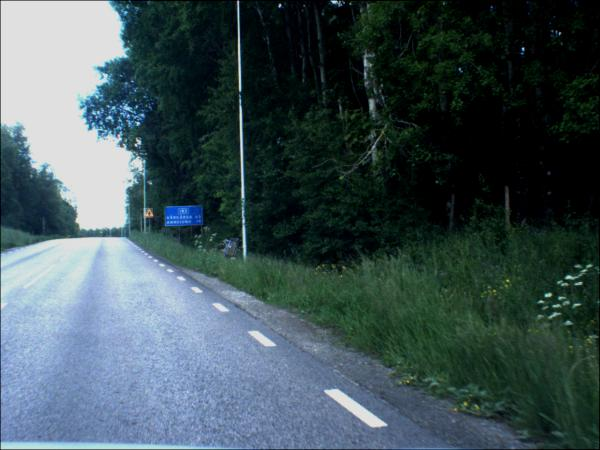WARNING: (144, 209, 155, 220)
